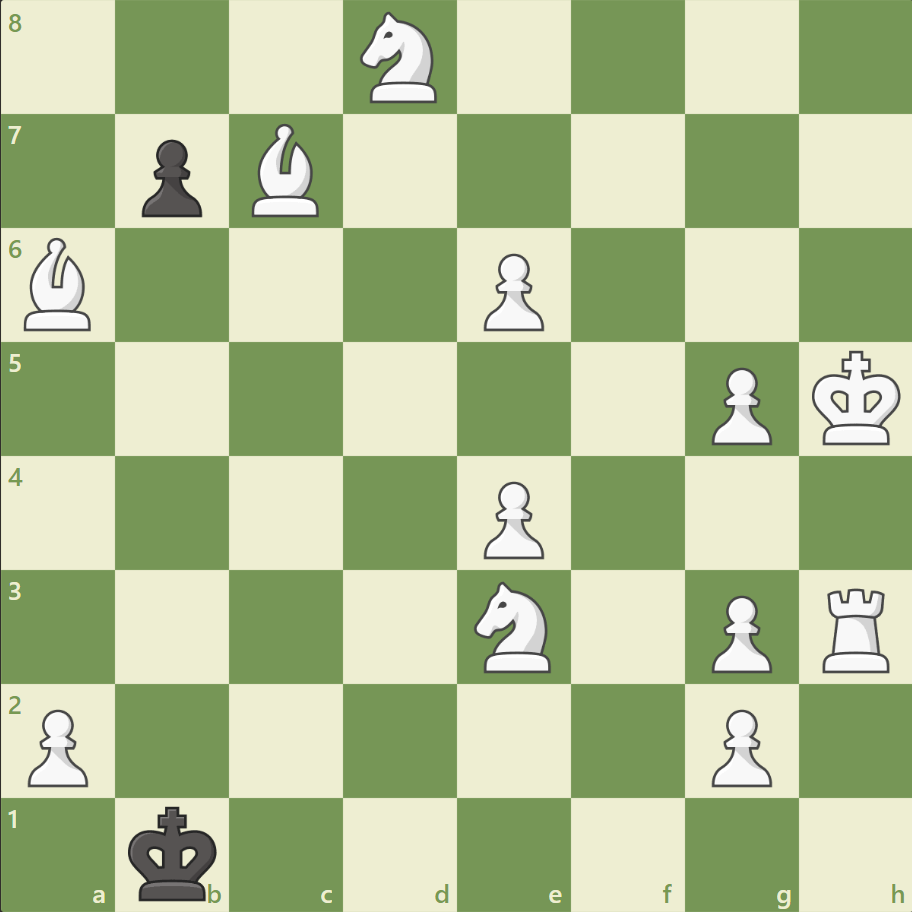B: (17, 233, 101, 336), (244, 120, 328, 222)
K: (806, 344, 906, 452)
N: (351, 7, 449, 110), (465, 575, 562, 677)
P: (474, 246, 549, 337), (701, 359, 776, 450), (474, 473, 549, 564), (701, 586, 776, 677), (20, 700, 95, 791), (701, 700, 776, 791)
R: (814, 579, 897, 676)
k: (124, 798, 224, 906)
p: (133, 132, 208, 223)
